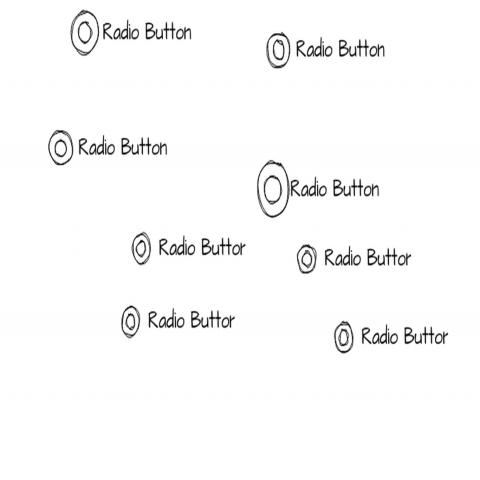Radio Button: (256, 160, 382, 220), (70, 9, 193, 58), (48, 128, 169, 168), (266, 32, 386, 71), (296, 240, 413, 277), (122, 303, 237, 339), (334, 320, 449, 356), (131, 232, 248, 267)
